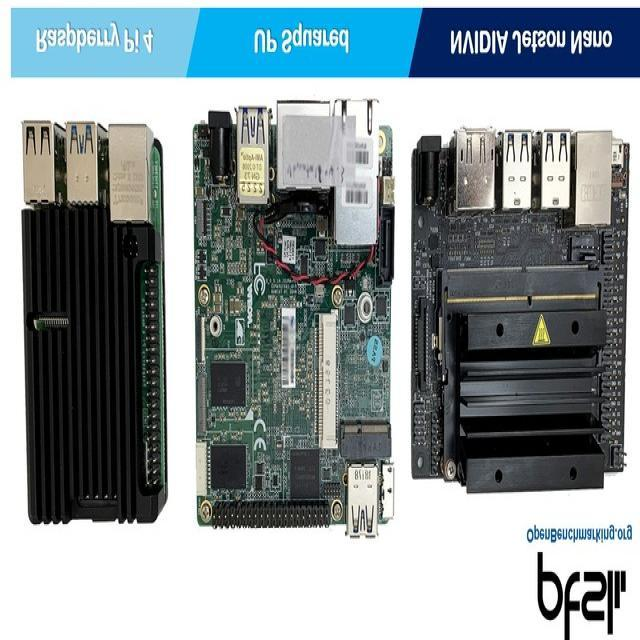Jetson Nano: (411, 131, 632, 493)
